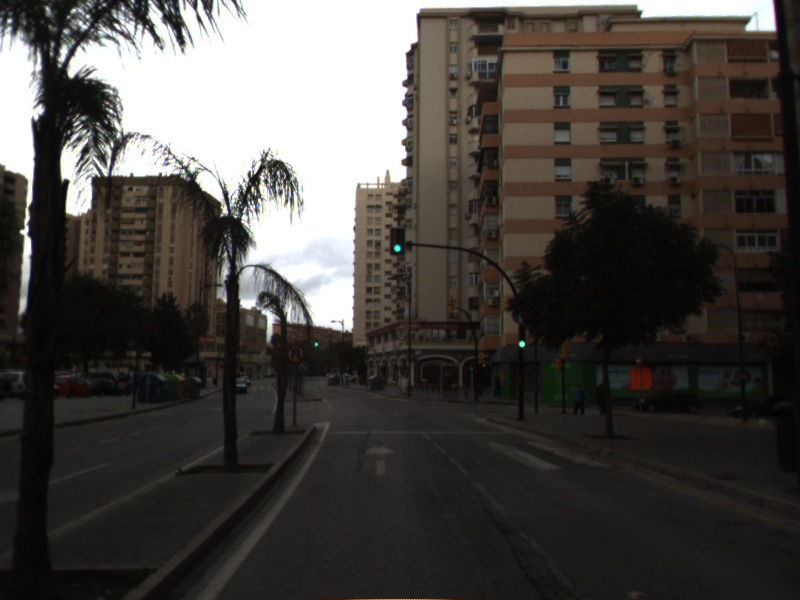STRAIGHT: (362, 440, 399, 479)
